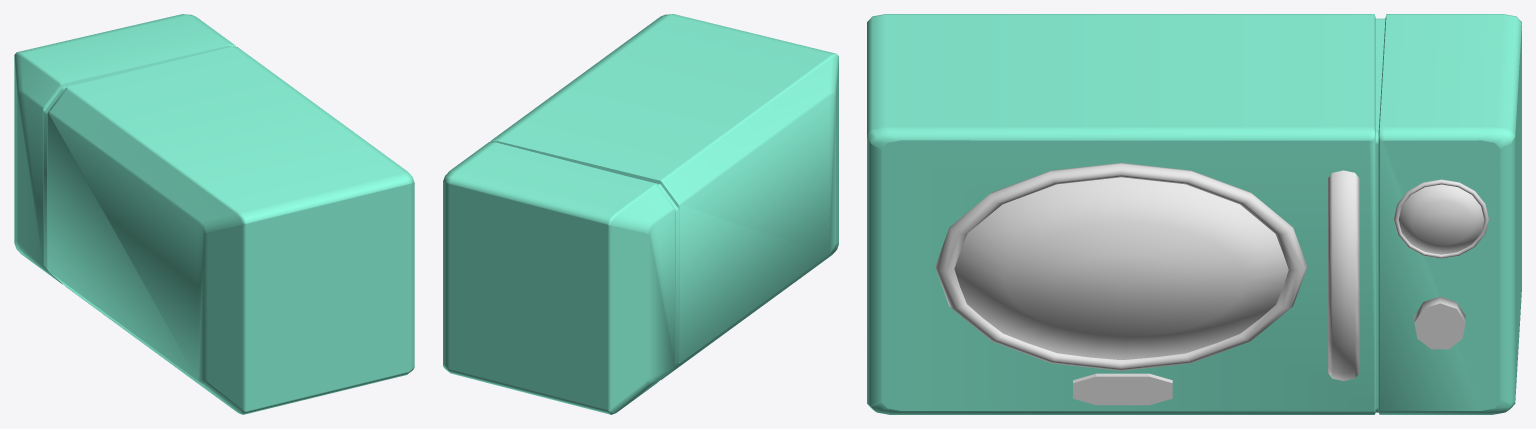
File: Microwave.fbx
The picture shows the model from 3 angles, left to right: view 1: azimuth 30°, elevation 25°; view 2: azimuth 150°, elevation 25°; view 3: azimuth 270°, elevation 25°; orthographic projection. The views are drawn at different scales.
Visible parts, largest first — view 1: Body; view 2: Body; view 3: Body, Circle, WindowLiner, Handle, Circle.001, Cube, Nob, TimerScreen.
Part boxes in pixels (box(x1,y1,x2,y2)): Body: box(14, 14, 414, 414); Body: box(443, 14, 838, 414); Body: box(867, 14, 1521, 414); Circle: box(954, 177, 1288, 359); WindowLiner: box(935, 163, 1307, 370); Handle: box(1328, 170, 1359, 380); Circle.001: box(1398, 184, 1484, 254); Cube: box(1073, 373, 1172, 405); Nob: box(1414, 296, 1465, 349); TimerScreen: box(1394, 179, 1488, 258).
Bounding box in the file's own units: 242 × 200 × 418.
